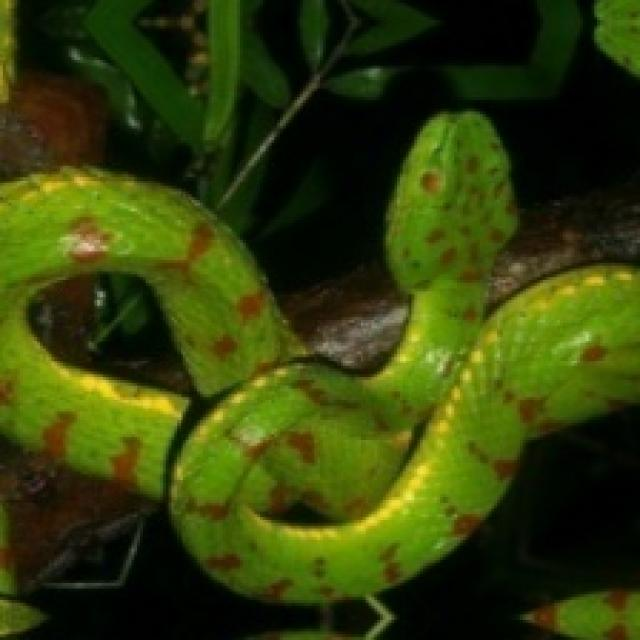philippine pitviper: (0, 111, 637, 600)
